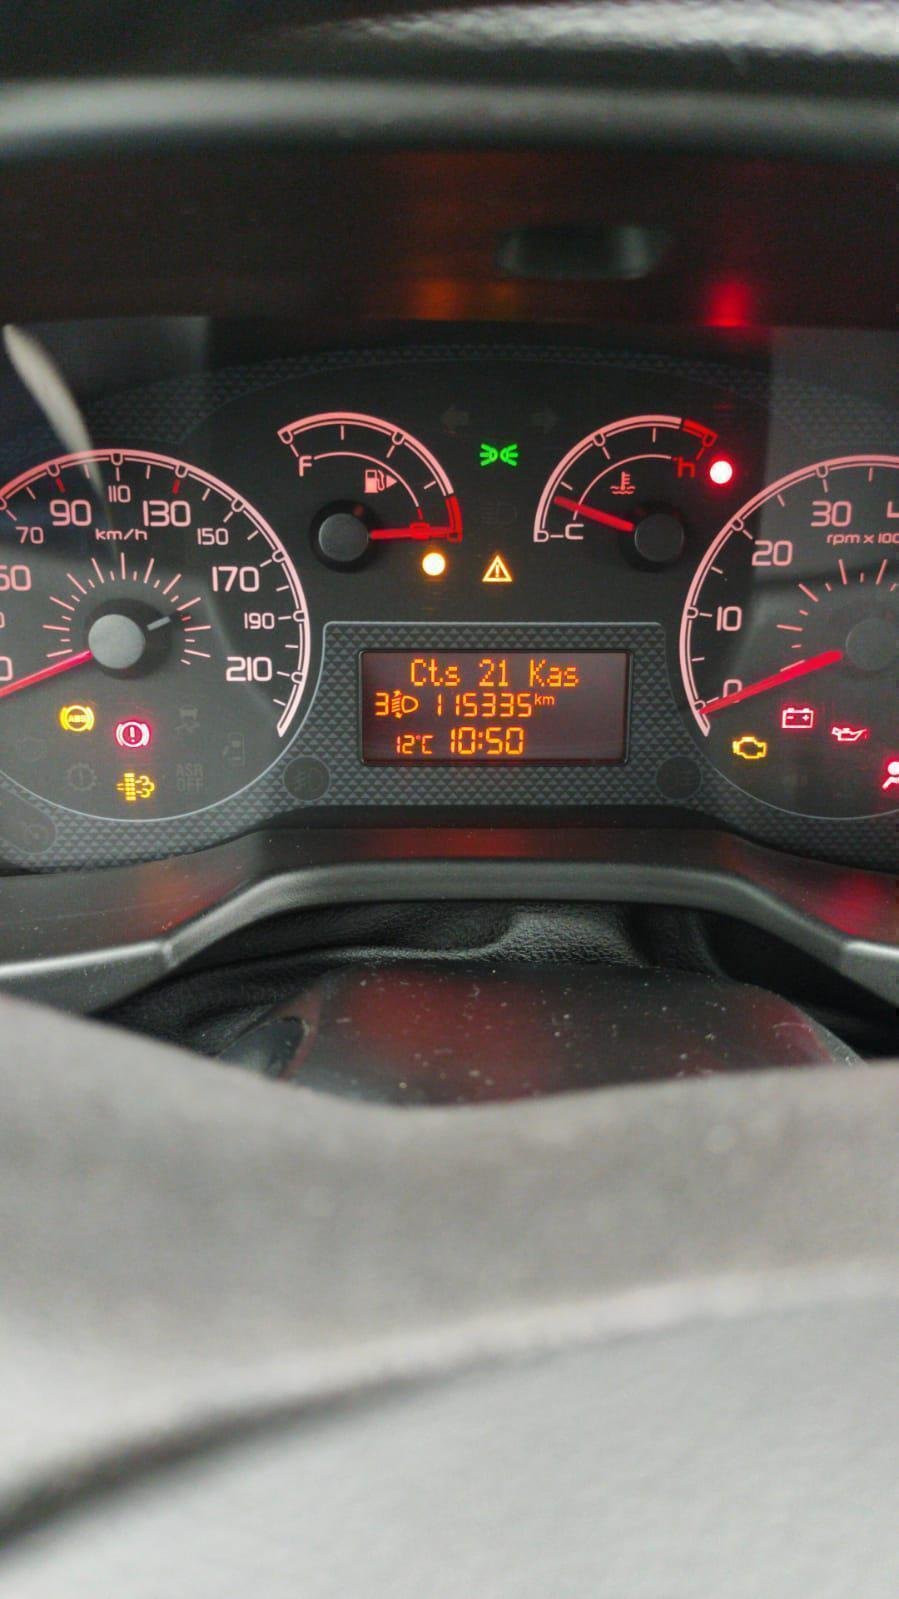0: (457, 726, 476, 754), (505, 726, 524, 754)
1: (498, 657, 509, 687), (435, 693, 442, 717), (449, 727, 456, 753), (454, 694, 461, 717), (395, 734, 401, 754)
2: (477, 658, 495, 687), (402, 734, 414, 754)
3: (479, 692, 497, 717), (497, 692, 514, 717), (374, 691, 389, 716)
5: (484, 726, 503, 754), (516, 692, 532, 717), (462, 692, 477, 717)
X: (390, 687, 419, 719), (528, 658, 547, 687), (409, 657, 427, 687), (427, 657, 443, 687), (561, 666, 580, 687), (443, 666, 461, 687), (546, 666, 562, 687), (422, 734, 434, 754), (542, 695, 557, 706), (477, 730, 484, 750), (533, 693, 542, 706)
odometer: (356, 645, 632, 765)
